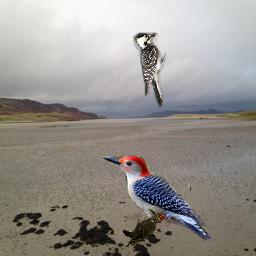Woodpecker: (102, 155, 212, 240), (132, 32, 168, 108), (123, 209, 166, 248)
